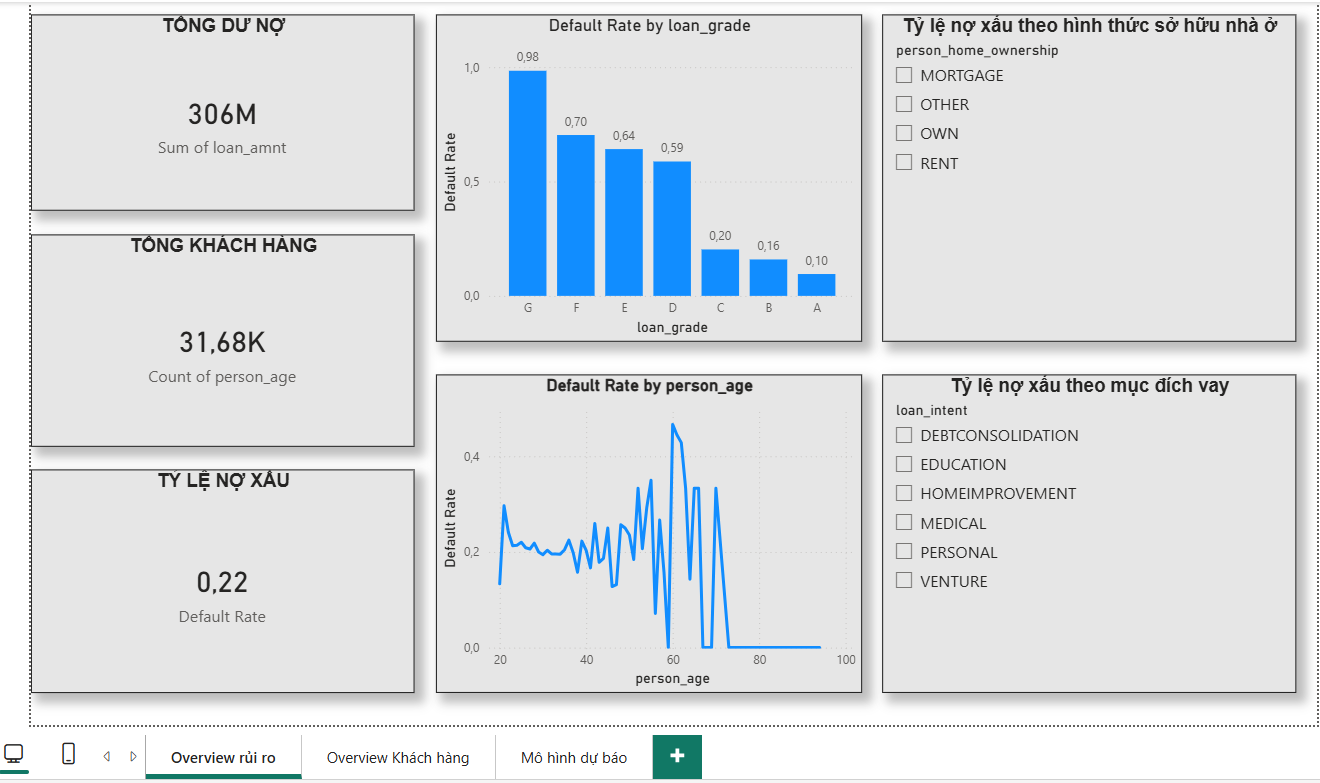

The dashboard page shown, as its layout file describes it:
{"tool":"powerbi","page":{"name":"Overview rủi ro ","canvas":[1280,720],"ordinal":0},"visuals":[{"type":"card","title":"TỔNG DƯ NỢ ","fields":{"Values":["Sum(credit_risk_dataset_cleaned.loan_amnt)"]},"box":[0,12.3,381.5,194.9],"z":0},{"type":"card","title":"TỔNG KHÁCH HÀNG ","fields":{"Values":["CountNonNull(credit_risk_dataset_cleaned.person_age)"]},"box":[0,231.9,381.5,211.3],"z":1000},{"type":"card","title":"TỶ LỆ NỢ XẤU ","fields":{"Values":["credit_risk_dataset_cleaned.Default Rate"]},"box":[0,465.2,381.5,222.3],"z":2000},{"type":"clusteredColumnChart","fields":{"Y":["credit_risk_dataset_cleaned.Default Rate"],"Category":["credit_risk_dataset_cleaned.loan_grade"]},"box":[403.4,12.3,424,325.2],"z":3000},{"type":"lineChart","fields":{"Category":["credit_risk_dataset_cleaned.person_age"],"Y":["credit_risk_dataset_cleaned.Default Rate"]},"box":[403.4,370.5,424,317],"z":4000},{"type":"slicer","title":"Tỷ lệ nợ xấu theo hình thức sở hữu nhà ở ","fields":{"Values":["credit_risk_dataset_cleaned.person_home_ownership"]},"box":[846.7,12.3,411.7,325.2],"z":5000},{"type":"slicer","title":"Tỷ lệ nợ xấu theo mục đích vay ","fields":{"Values":["credit_risk_dataset_cleaned.loan_intent"]},"box":[846.7,370.5,411.7,317],"z":6000}]}

Visuals, with their boxes in screenshot pixels (x1, y1, x2, y2):
"TỔNG DƯ NỢ " card: bbox(21, 9, 409, 207)
"TỔNG KHÁCH HÀNG " card: bbox(21, 232, 409, 447)
"TỶ LỆ NỢ XẤU " card: bbox(21, 470, 409, 696)
clusteredColumnChart - credit_risk_dataset_cleaned.Default Rate x credit_risk_dataset_cleaned.loan_grade: bbox(431, 9, 862, 340)
lineChart - credit_risk_dataset_cleaned.person_age x credit_risk_dataset_cleaned.Default Rate: bbox(431, 373, 862, 696)
"Tỷ lệ nợ xấu theo hình thức sở hữu nhà ở " slicer: bbox(882, 9, 1300, 340)
"Tỷ lệ nợ xấu theo mục đích vay " slicer: bbox(882, 373, 1300, 696)
